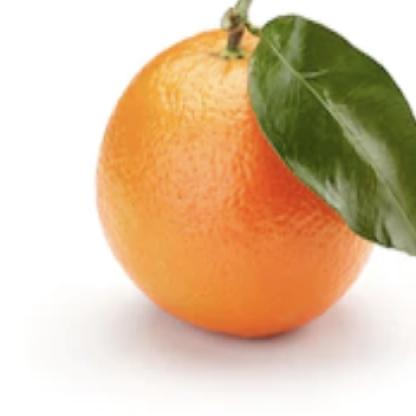fresh: (95, 16, 390, 335)
